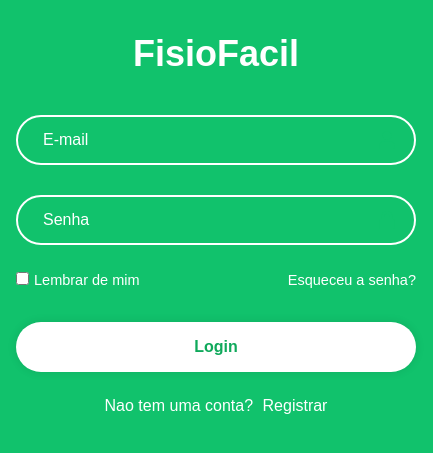
it: Login › deve exibir validacao quando campos obrigatorios nao forem preenchidos
Click the button "Login": point(216, 347) [16,322,416,372]
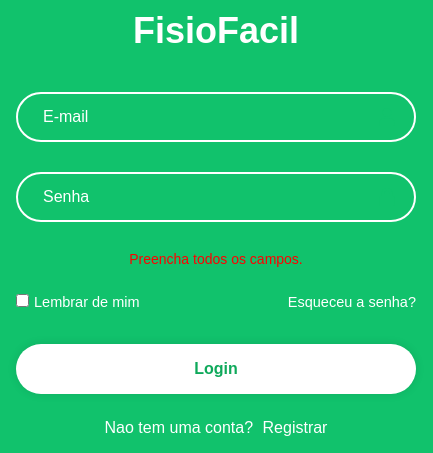
Check: the text "Preencha todos os campos." is shown, box [129,247,303,272]
